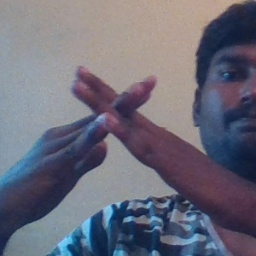W: (60, 62, 172, 176)
